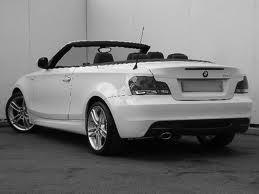car: (7, 37, 254, 157)
